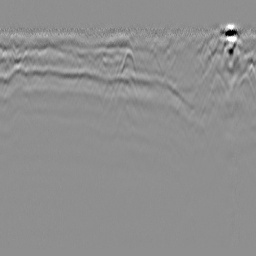cavity: (119, 46, 136, 74)
